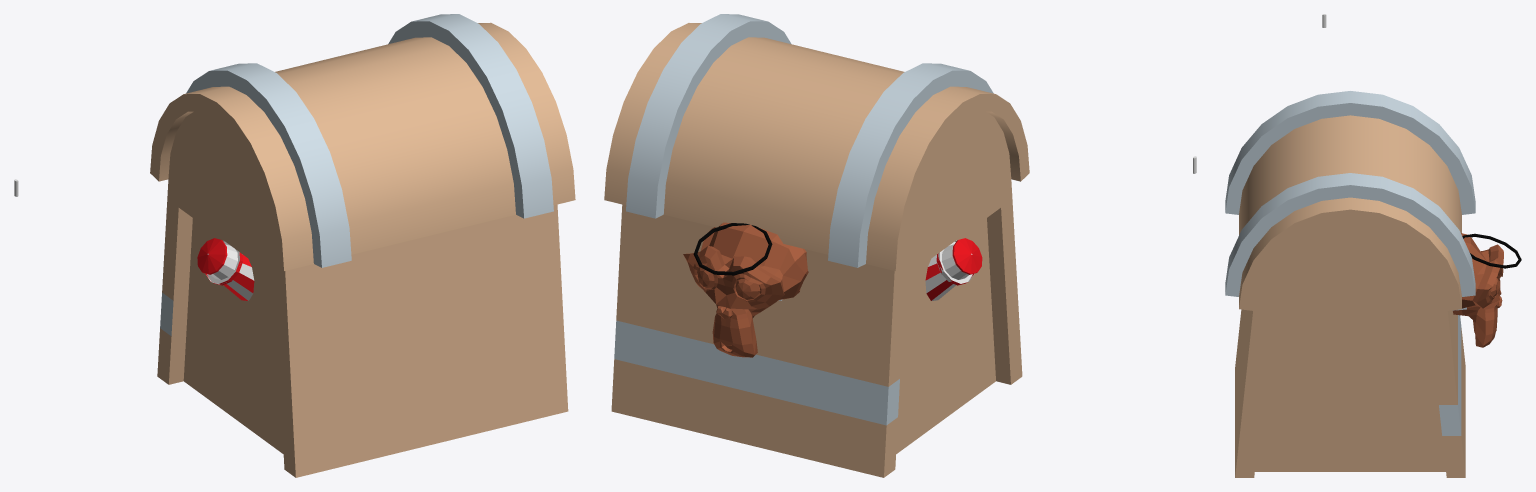
Rendered from MonkeChest.fbx.
The picture shows the model from 3 angles, left to right: view 1: azimuth 30°, elevation 25°; view 2: azimuth 150°, elevation 25°; view 3: azimuth 270°, elevation 25°; orthographic projection. The views are drawn at different scales.
Parts seen in each view (by area): view 1: chest, Cylinder; view 2: chest, Suzanne, Cylinder, Torus.003; view 3: chest, Suzanne, Torus.003.
Part boxes in pixels (left/top/right/bottom): chest: left=150, top=14, right=575, bottom=477; Cylinder: left=197, top=238, right=254, bottom=300; chest: left=604, top=14, right=1029, bottom=477; Suzanne: left=683, top=222, right=808, bottom=357; Cylinder: left=925, top=238, right=982, bottom=300; Torus.003: left=693, top=223, right=772, bottom=275; chest: left=1225, top=91, right=1475, bottom=477; Suzanne: left=1453, top=233, right=1503, bottom=347; Torus.003: left=1462, top=233, right=1521, bottom=268.
Bounding box in the file's own units: 856 × 549 × 518.
